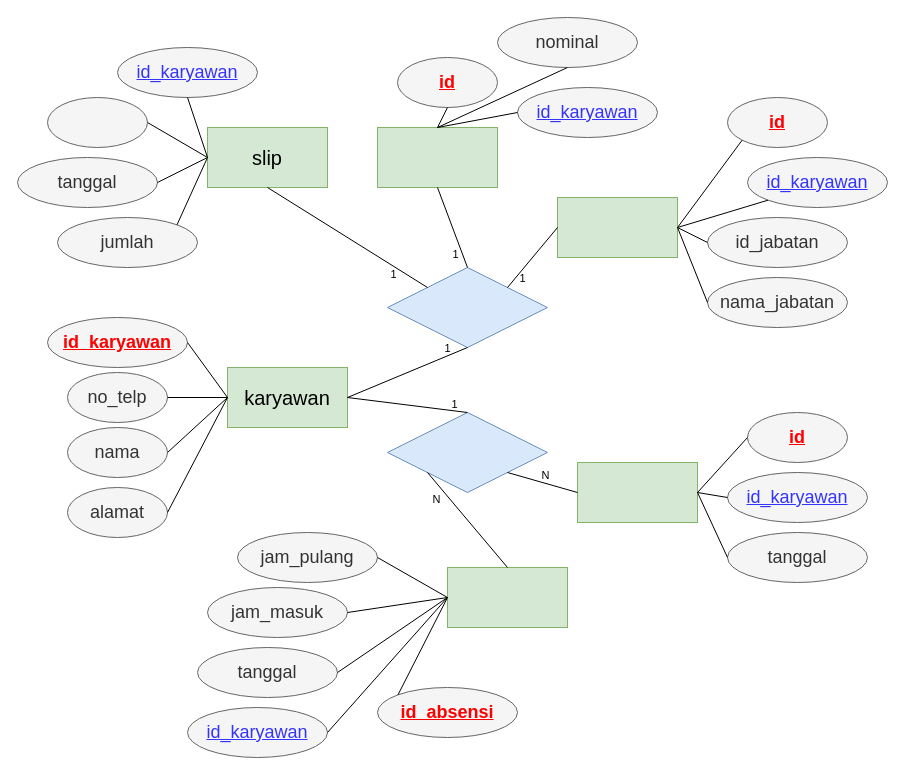
The diagram is 905 pixels wide and 775 high, and some of its shapes have lost their labels. Here are the shapes that lost their labels. From the top down, the centre of each, then its label:
At (x=97, y=122): "id_slip".
At (x=437, y=157): "upah".
At (x=617, y=227): "jabatan".
At (x=467, y=307): "Memiliki".
At (x=467, y=452): "Melakukan".
At (x=637, y=492): "lembur".
At (x=507, y=597): "absensi".
